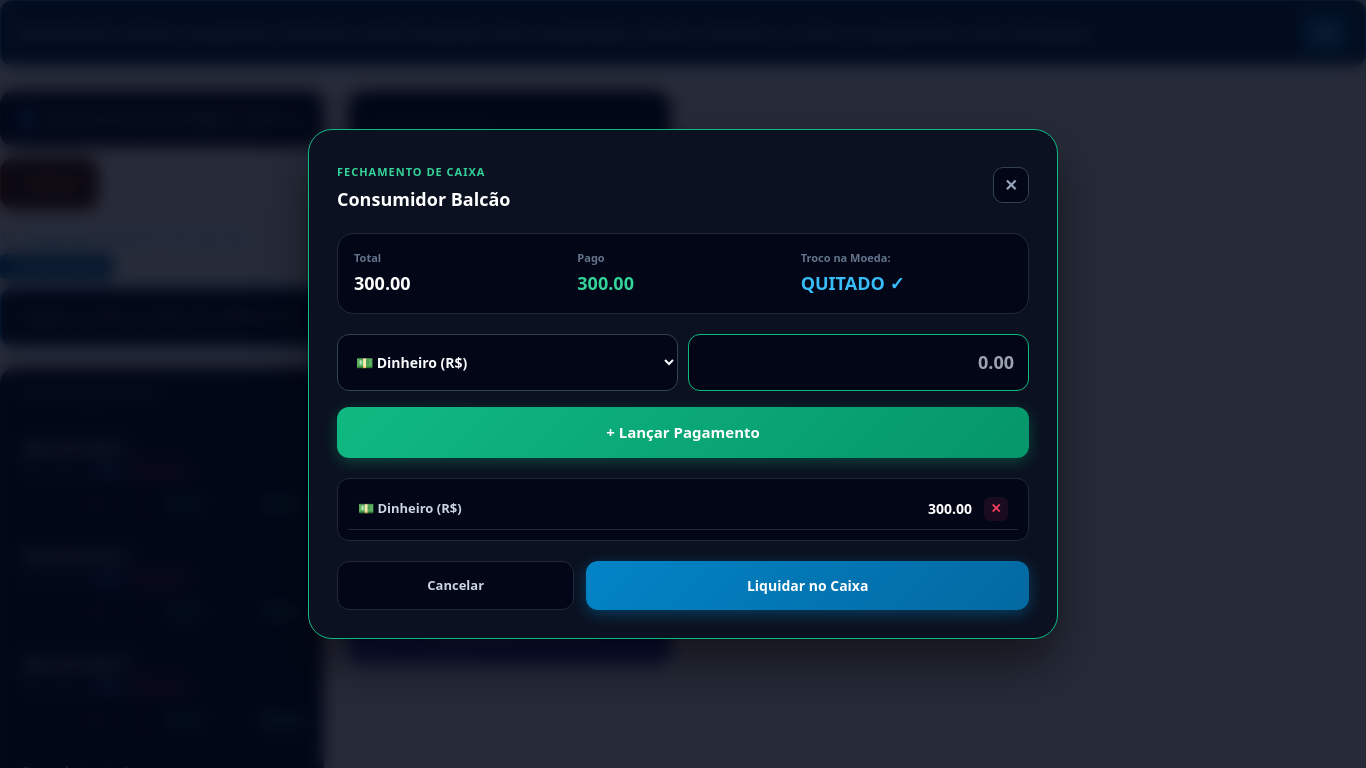
Scenario: Conflito V2 mantém 30 itens, não duplica venda e reusa ID/data ao tentar de novo
The width and height of the screenshot is (1366, 768).
Click the button "Liquidar no Caixa" at coordinates (808, 586), box [586,561,1029,610]
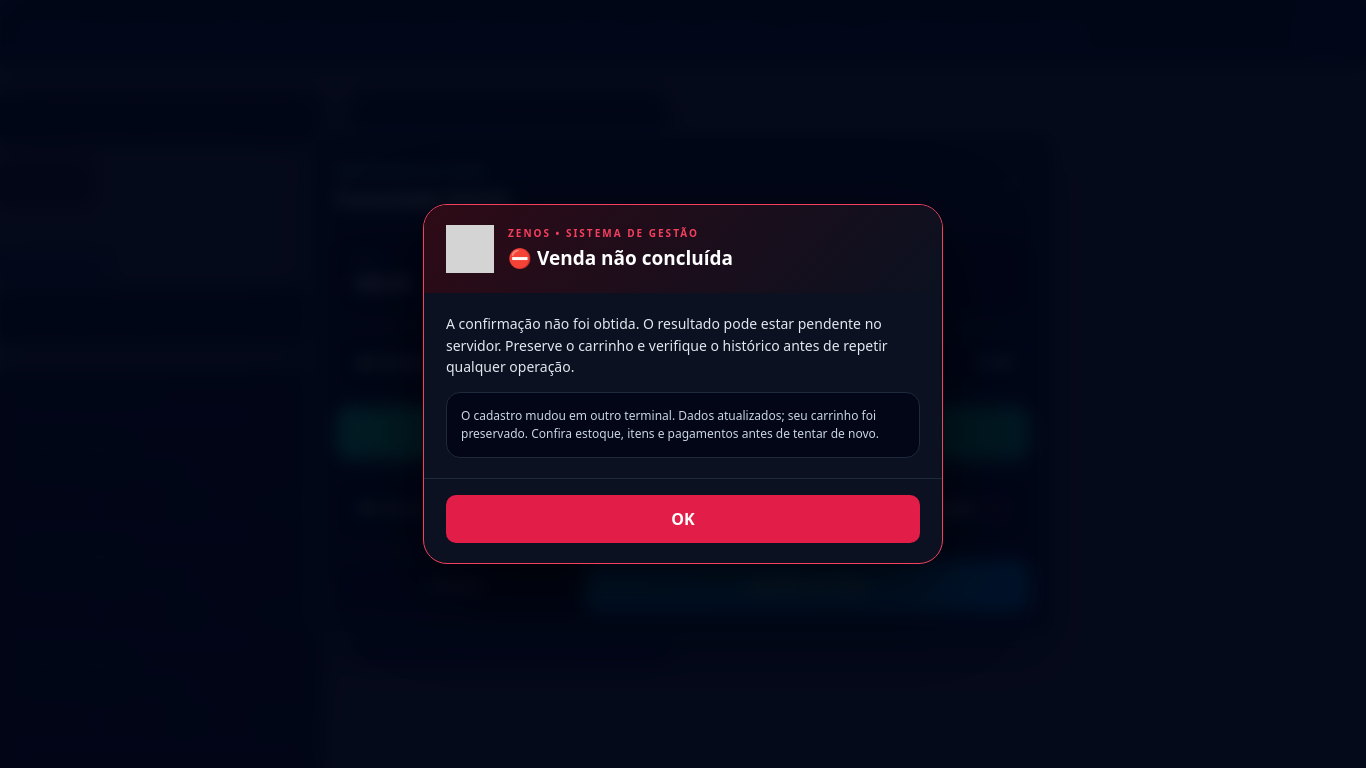
Check: the text "O cadastro mudou em outro terminal" is shown, box [461,407,879,442]
// Fechar somente aviso, sem desistir do atendimento.
Click the button "OK" at coordinates (683, 519), box [446,495,920,543]
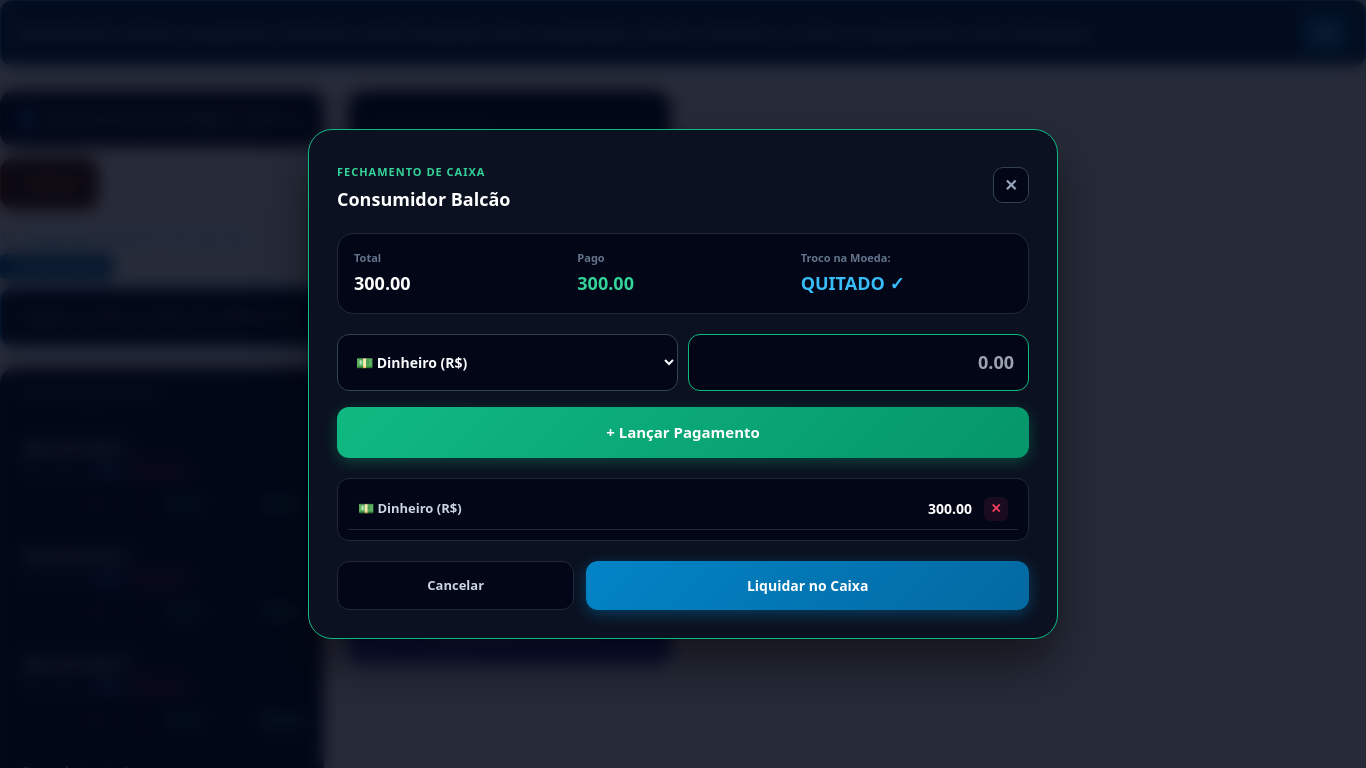
Click the button "Liquidar no Caixa" at coordinates (808, 586), box [586,561,1029,610]
(page scrolled)
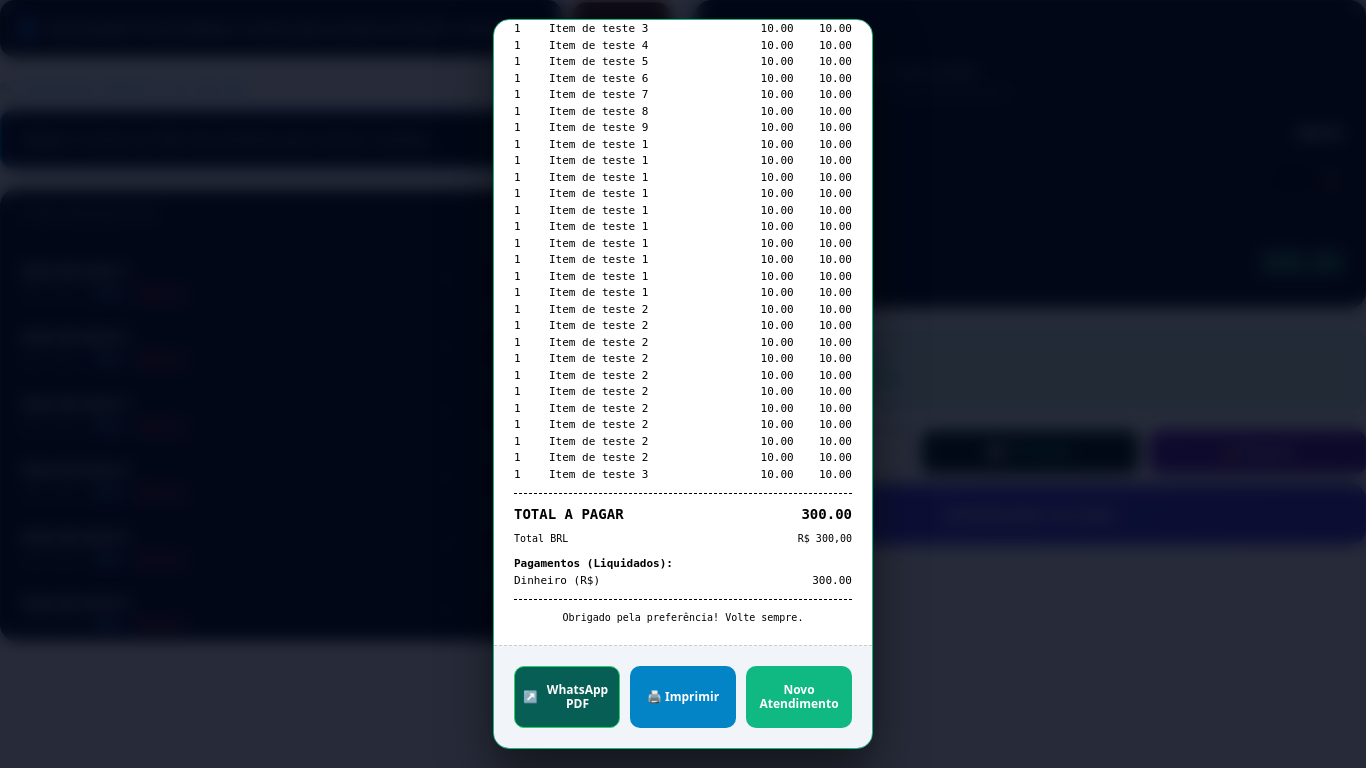
Check: the button "Novo Atendimento" is shown, box [746,666,852,728]
